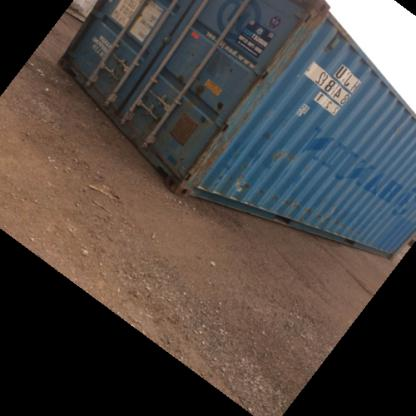Damage: (231, 173, 347, 225), (254, 0, 329, 78), (214, 67, 266, 136), (166, 131, 226, 188), (197, 96, 227, 122), (266, 148, 297, 166), (187, 82, 209, 99)
